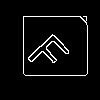F: (25, 25, 78, 78)
